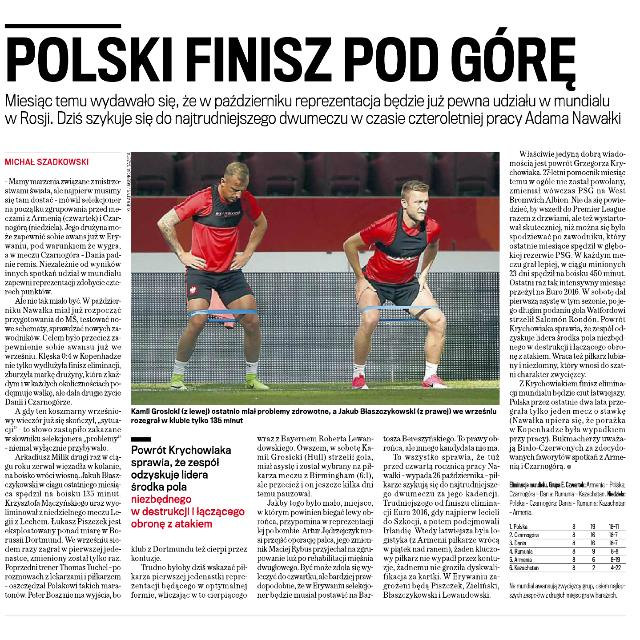author: (3, 154, 97, 168)
body: (1, 174, 124, 602), (504, 147, 630, 473), (380, 430, 502, 602), (255, 432, 377, 602), (129, 433, 251, 533), (129, 540, 251, 600)
caption: (130, 406, 500, 426)
image: (129, 150, 501, 404)
lead: (2, 90, 626, 130)
title: (4, 28, 590, 92)
